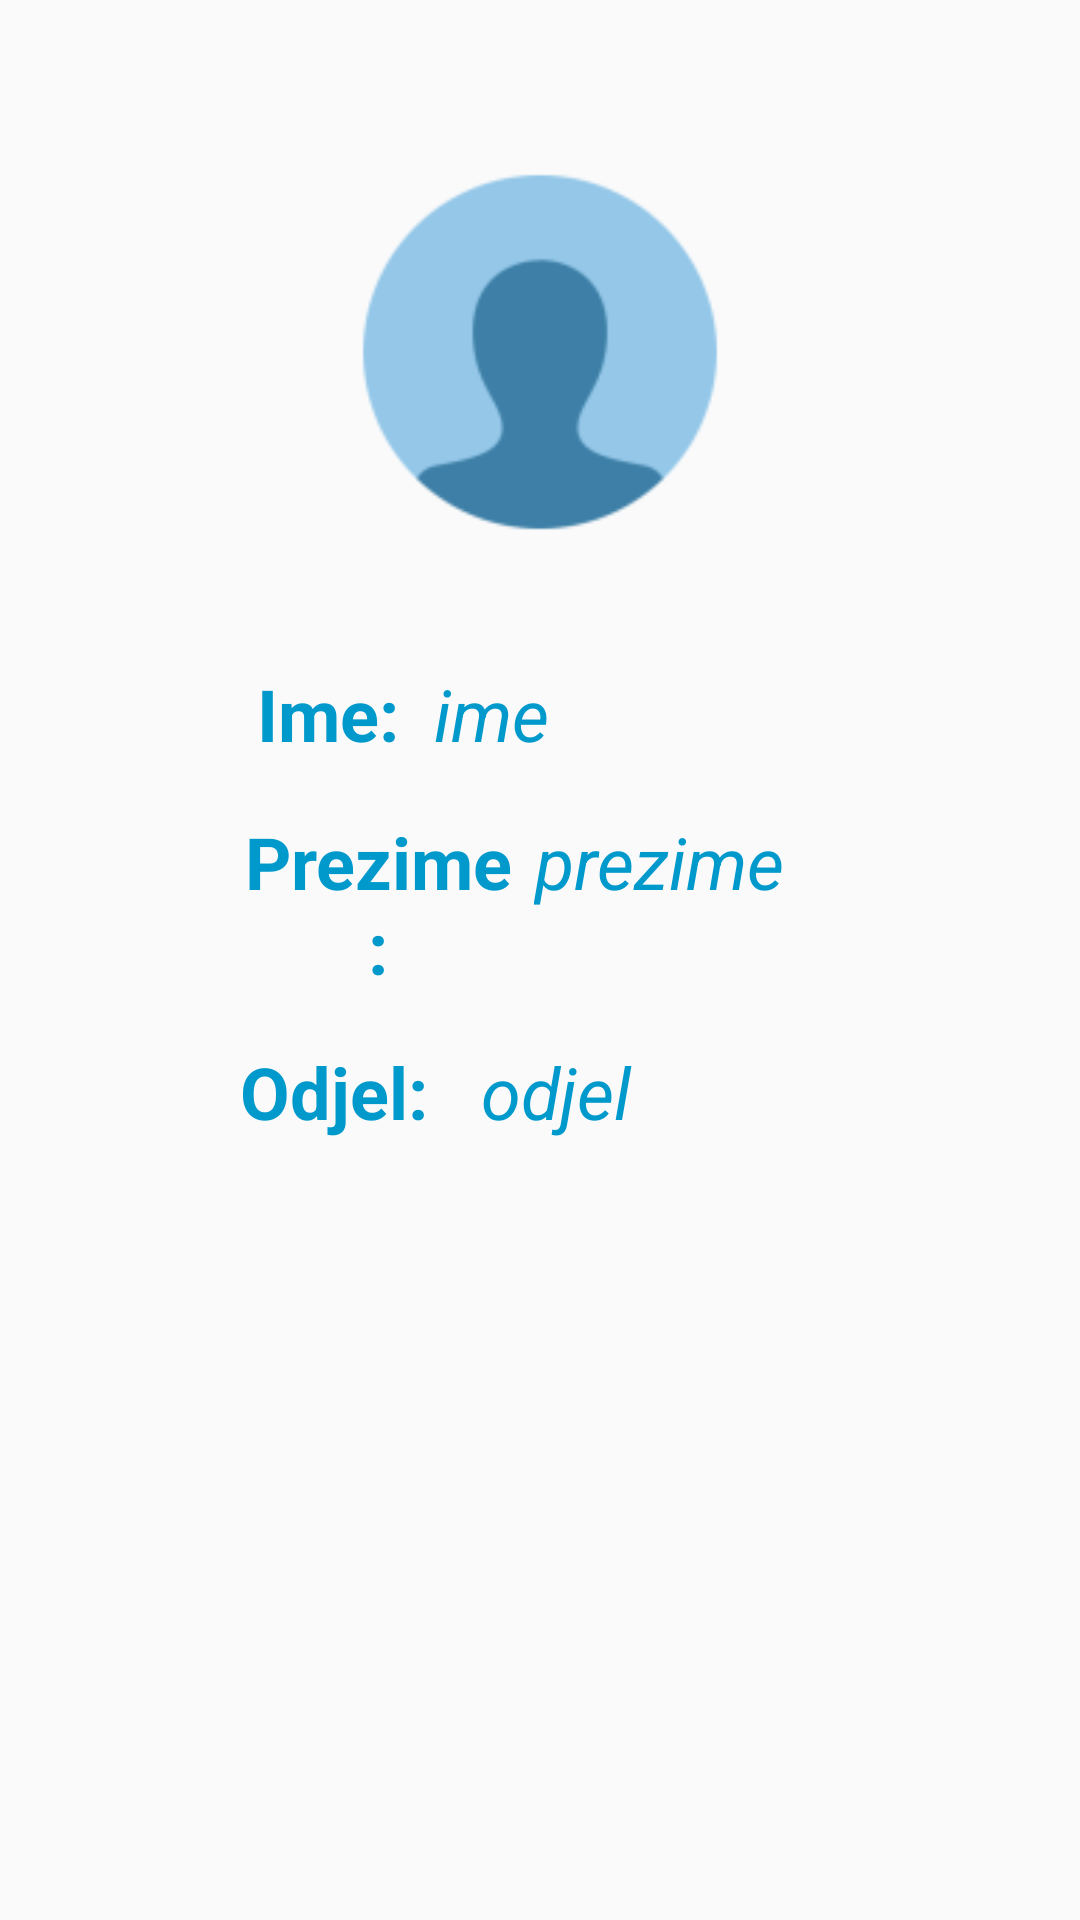

Where icons sit on this 1080*1920 app screen, as (x1, y1, x2, y2):
profil: (363, 175, 717, 530)
